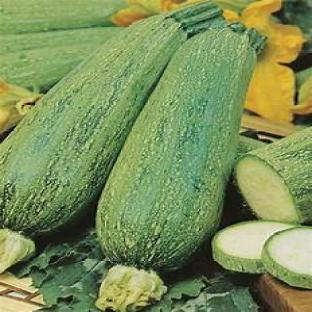Zucchini: (0, 3, 223, 238), (97, 24, 262, 310), (0, 27, 121, 92), (236, 127, 311, 222), (213, 221, 293, 273), (2, 27, 123, 55), (261, 227, 311, 289), (0, 80, 41, 134), (236, 136, 267, 160)
